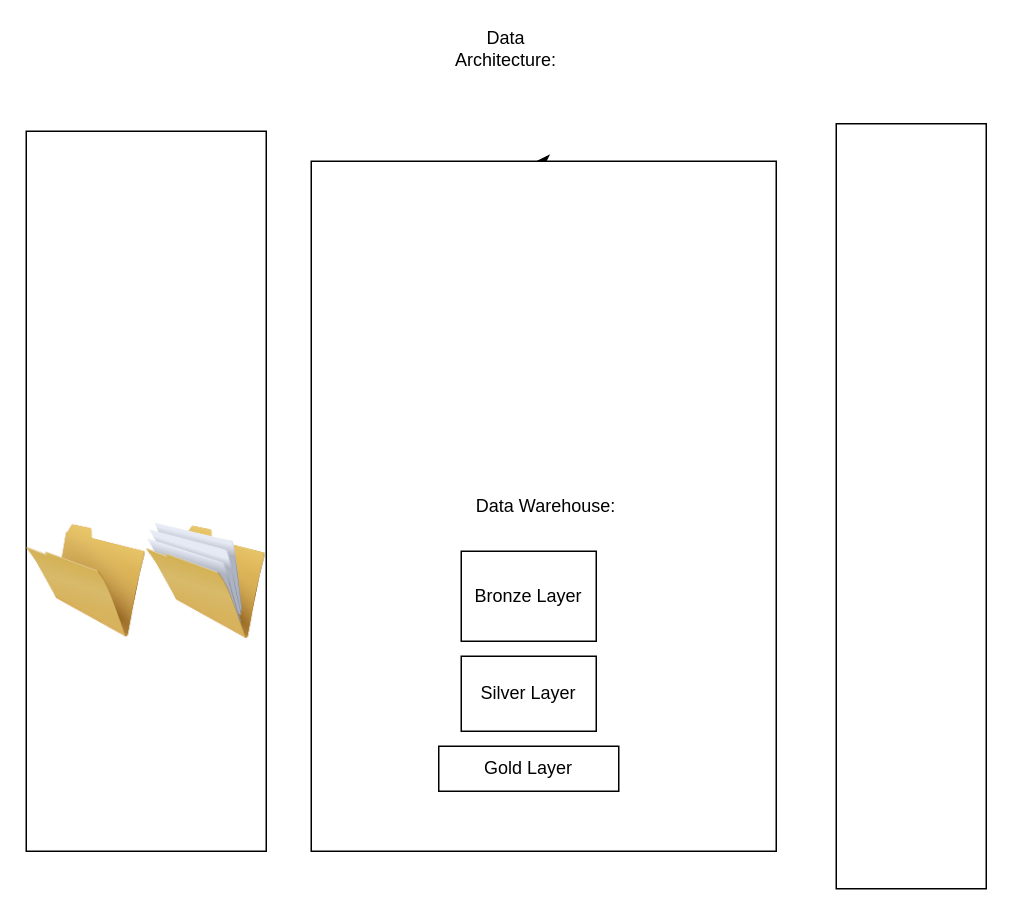
Some shapes in this 1013 by 915 pixel diagram are drawn without their labels. The shapes that lost their labels are listed below. From the top down, each one's box as (x1, y1, x2, y2) in pixels, then its label:
(25, 130, 266, 851): Sources: CRM ERP
(835, 122, 986, 889): Consume
